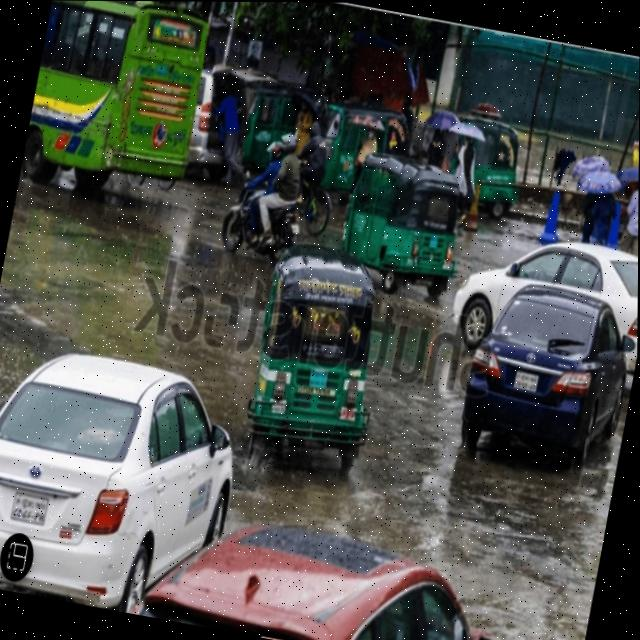cng: (223, 242, 391, 504), (328, 137, 481, 286)
